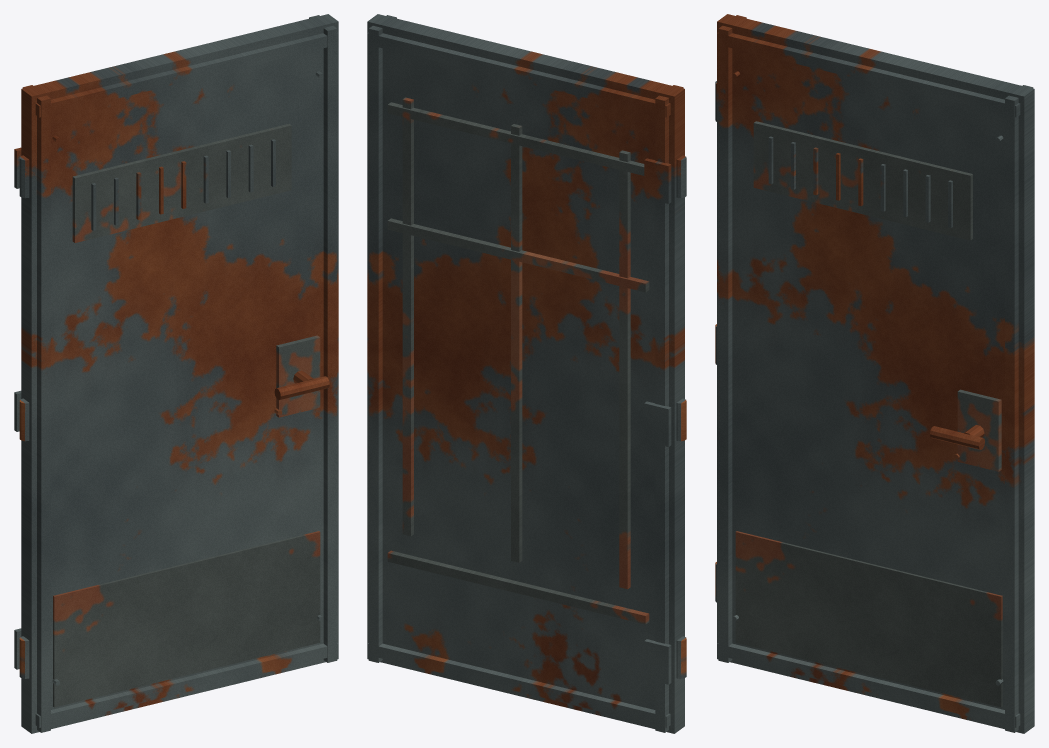
Rendered from steel_door_leaf_v02.glb.
3 views of the same model, side by side, from view 1: azimuth 30°, elevation 25°; view 2: azimuth 150°, elevation 25°; view 3: azimuth 330°, elevation 25° (orthographic).
Visible parts, largest first — view 1: DoorCore, SteelKickPlate, VentBacking, EdgeChannel_1.165, EdgeChannel_0.055, HorizontalFold_0.06, HorizontalFold_2.32, HandleBacking, HandleGrip; view 2: DoorCore, EdgeChannel_1.165, EdgeChannel_0.055, VerticalRib_0.2, VerticalRib_1.04, VerticalRib_0.62, HorizontalFold_2.32, HorizontalFold_0.06, Bracing_0.42, Bracing_1.65, Bracing_2.08, HingeLeaf_1 (+2 smaller); view 3: DoorCore, SteelKickPlate, VentBacking, EdgeChannel_0.055, EdgeChannel_1.165, HorizontalFold_2.32, HorizontalFold_0.06, HandleBacking, HandleGrip.
Part boxes in pixels (<box>): DoorCore: <box>21,14,338,733</box>; SteelKickPlate: <box>53,531,320,707</box>; VentBacking: <box>72,123,291,242</box>; EdgeChannel_1.165: <box>309,15,337,662</box>; EdgeChannel_0.055: <box>22,85,50,732</box>; HorizontalFold_0.06: <box>35,643,338,727</box>; HorizontalFold_2.32: <box>35,32,338,117</box>; HandleBacking: <box>276,335,320,417</box>; HandleGrip: <box>274,376,329,400</box>; DoorCore: <box>367,14,684,733</box>; EdgeChannel_1.165: <box>368,15,396,662</box>; EdgeChannel_0.055: <box>655,85,683,732</box>; VerticalRib_0.2: <box>619,150,630,589</box>; VerticalRib_1.04: <box>402,97,413,536</box>; VerticalRib_0.62: <box>511,124,522,562</box>; HorizontalFold_2.32: <box>367,32,670,117</box>; HorizontalFold_0.06: <box>367,643,670,727</box>; Bracing_0.42: <box>387,550,649,624</box>; Bracing_1.65: <box>387,218,649,292</box>; Bracing_2.08: <box>387,102,644,175</box>; HingeLeaf_1: <box>644,401,671,446</box>; DoorCore: <box>717,14,1034,733</box>; SteelKickPlate: <box>735,531,1002,707</box>; VentBacking: <box>753,121,972,240</box>; EdgeChannel_0.055: <box>718,15,746,662</box>; EdgeChannel_1.165: <box>1005,85,1033,732</box>; HorizontalFold_2.32: <box>717,32,1020,117</box>; HorizontalFold_0.06: <box>717,643,1020,727</box>; HandleBacking: <box>957,389,1001,471</box>; HandleGrip: <box>930,426,984,449</box>.
Size of the model in its own units: 1.21 by 2.36 by 0.235.
2 materials, 2 textured.
